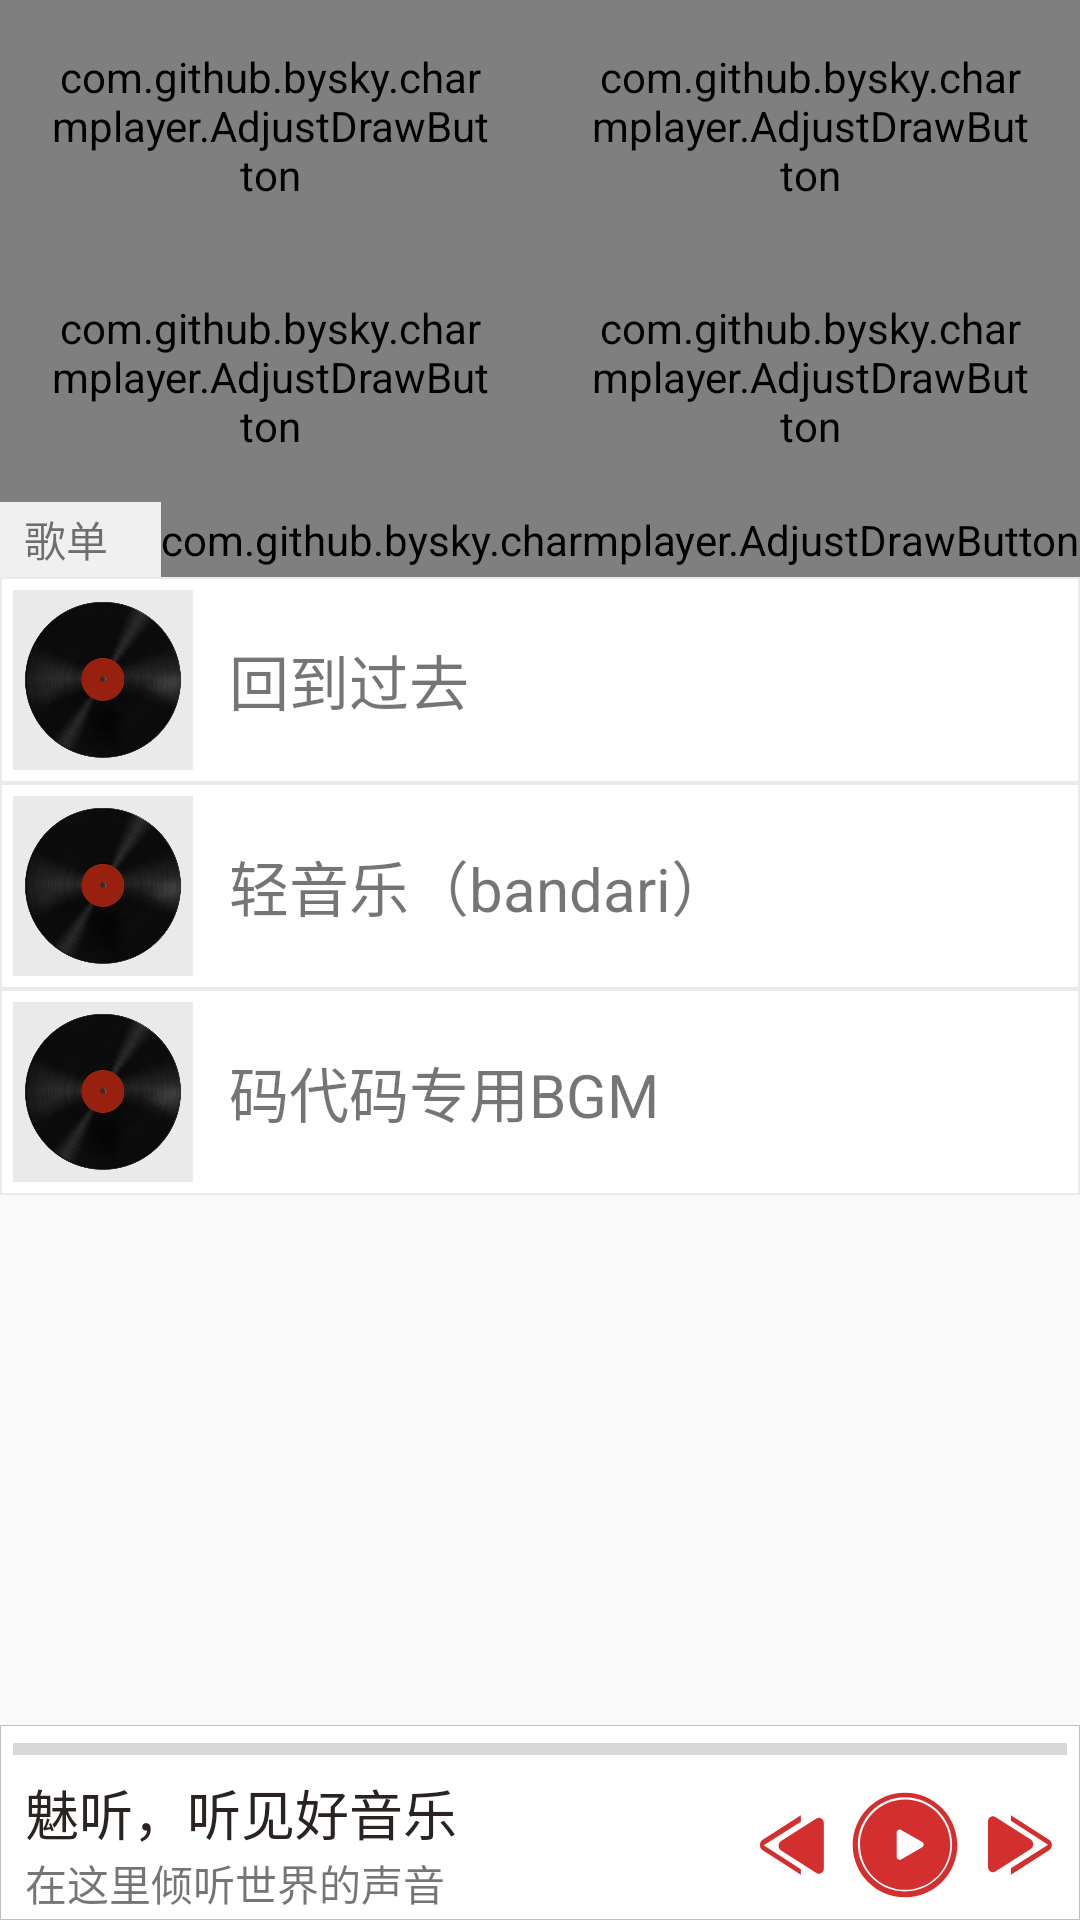

Where to tap for icons on this 1080 × 1920 app screen, as point (x, y):
mipmap album medium: point (103, 680), point (103, 886), point (103, 1092)
next music: point (1020, 1845)
play: point (905, 1845)
pre music: point (792, 1845)
